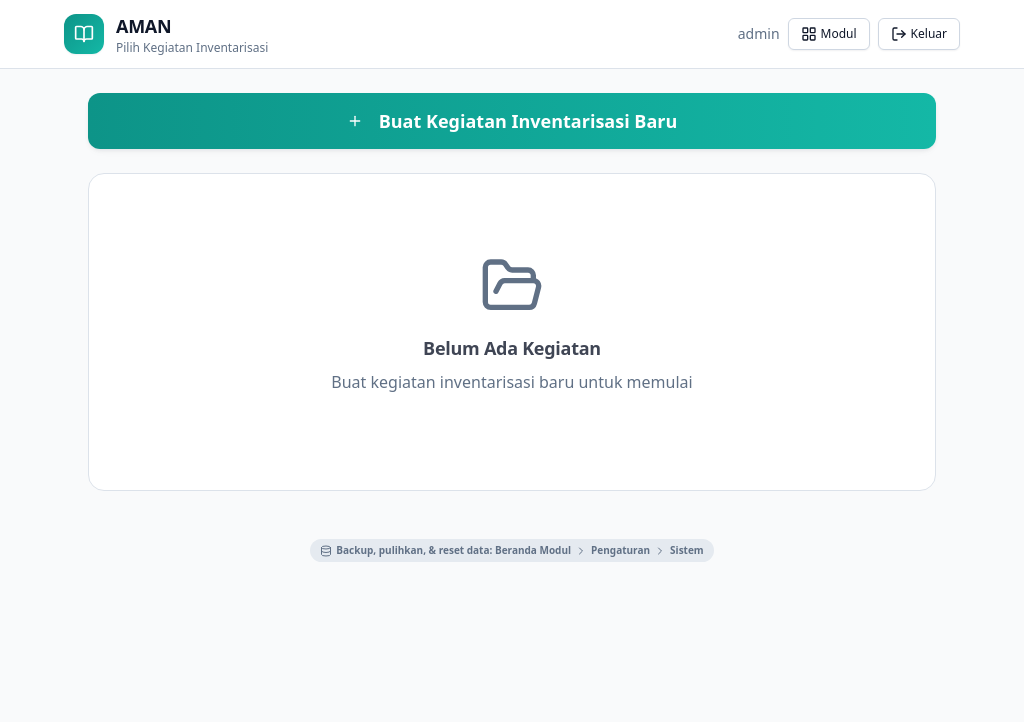
satker Eselon I tetap melihat Eselon I — persis seperti sebelumnya
Click the button "Buat Kegiatan Inventarisasi Baru".
click(512, 121)  # box [88,93,936,149]
(page scrolled)
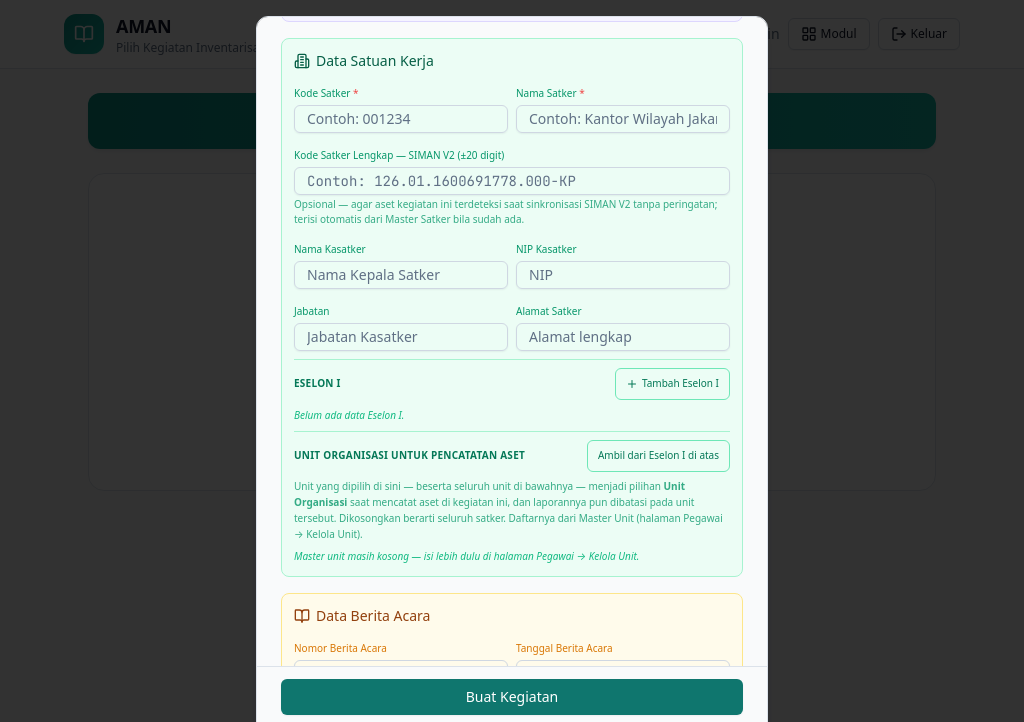
Now the label with test id "label-eselon-puncak" reads "Eselon I", box [294,376,341,390]
Now the button with test id "add-eselon1-btn" reads "Tambah Eselon I", box [615,368,730,400]
